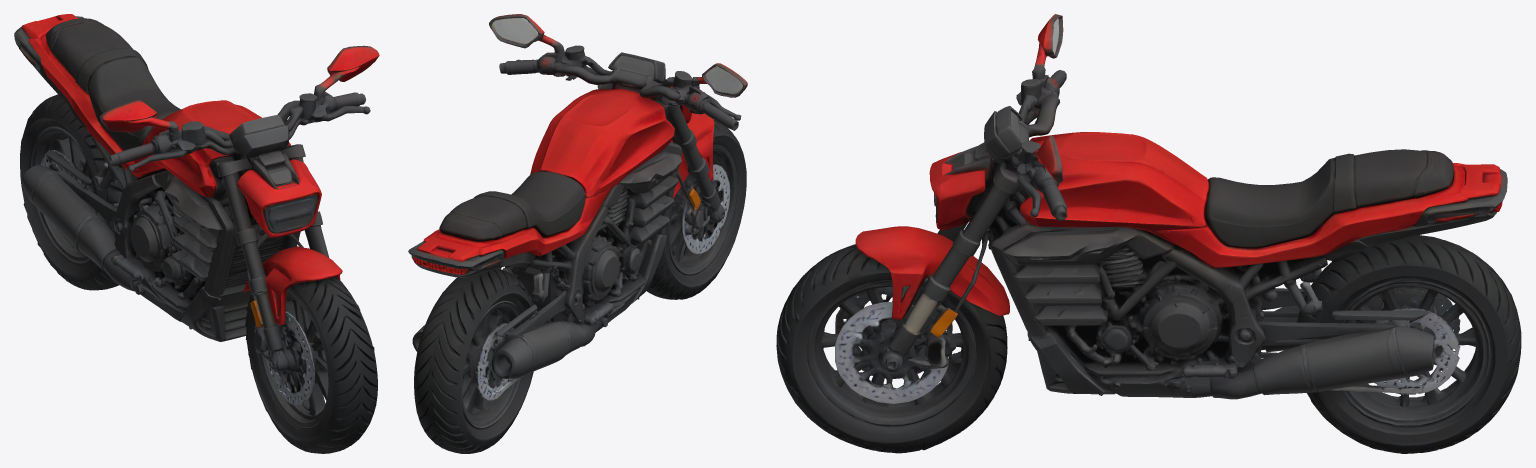
The model's file is reference-motorcycle-v339.glb.
3 renders of one model, left to right at view 1: azimuth 30°, elevation 25°; view 2: azimuth 150°, elevation 25°; view 3: azimuth 270°, elevation 25°, orthographic. The views are drawn at different scales.
Parts seen in each view (by area): view 1: model; view 2: model; view 3: model.
Boxes of the visible parts, <box> form: model: <box>14,14,379,453</box>; model: <box>408,14,747,453</box>; model: <box>776,14,1521,453</box>.
Bounding box in the file's own units: 0.9315 × 1.04 × 1.9.
Materials: 1 (1 with a texture image).
